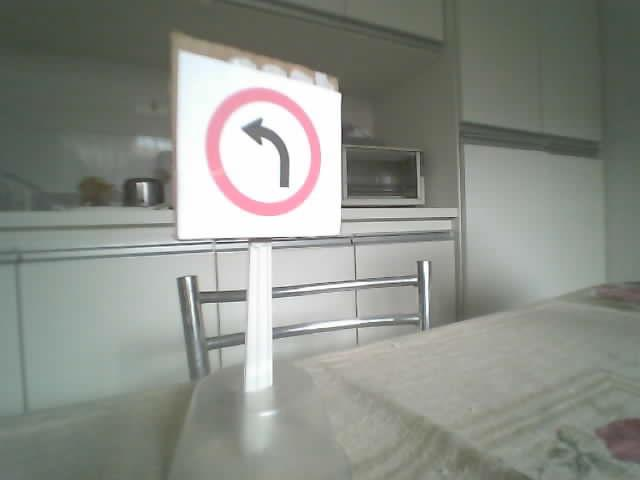R-25a_esquerda: (205, 85, 322, 216)
